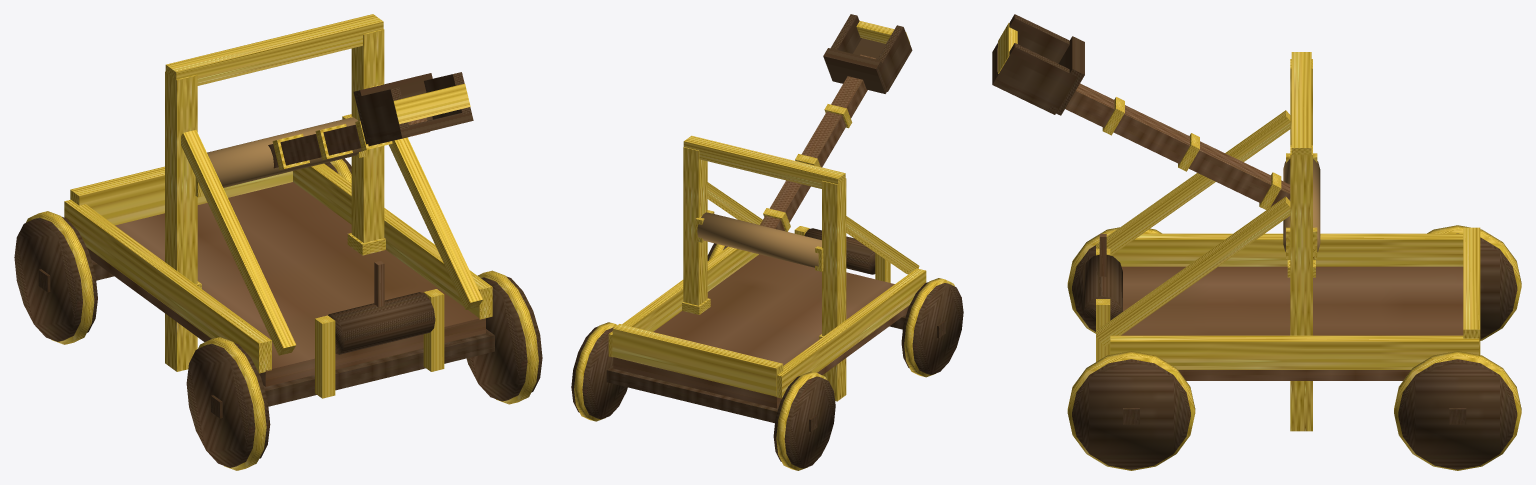
Rendered from ae_catapult_small_royal_lod1.glb.
3 views of the same model, side by side, from view 1: azimuth 30°, elevation 25°; view 2: azimuth 150°, elevation 25°; view 3: azimuth 270°, elevation 25° (orthographic). The views are drawn at different scales.
Parts seen in each view (by area): view 1: bed, sideL, post_L, wheel_RL_rim, wheel_FL_rim, cross_top, sideR, brace_-0.72, post_R, wheel_RR_rim, front_stop, winch_drum (+14 smaller); view 2: bed, front_stop, sideL, post_L, wheel_RL_rim, wheel_FL_rim, skein, post_R, arm_beam, cross_top, axle_front, sideR (+12 smaller); view 3: bed, sideR, wheel_FR_rim, wheel_RR_rim, sideL, arm_beam, post_R, brace_0.72, brace_-0.72, spoon_R, wheel_FL_rim, cross_top (+13 smaller).
Part boxes in pixels (<box>): bed: <box>87,182,485,386</box>; sideL: <box>64,199,271,373</box>; post_L: <box>165,71,197,371</box>; wheel_RL_rim: <box>186,343,270,467</box>; wheel_FL_rim: <box>14,217,97,341</box>; cross_top: <box>165,14,383,85</box>; sideR: <box>293,163,492,319</box>; brace_-0.72: <box>181,130,296,355</box>; post_R: <box>351,29,384,242</box>; wheel_RR_rim: <box>466,276,542,401</box>; front_stop: <box>70,166,292,225</box>; winch_drum: <box>328,292,435,354</box>; bed: <box>613,254,909,408</box>; front_stop: <box>612,324,783,396</box>; sideL: <box>776,268,926,398</box>; post_L: <box>822,178,846,401</box>; wheel_RL_rim: <box>901,282,963,374</box>; wheel_FL_rim: <box>773,376,835,468</box>; skein: <box>697,212,821,267</box>; post_R: <box>683,147,707,305</box>; arm_beam: <box>760,54,876,230</box>; cross_top: <box>683,135,845,188</box>; axle_front: <box>606,366,817,431</box>; sideR: <box>608,246,758,357</box>; bed: <box>1121,266,1463,380</box>; sideR: <box>1110,335,1478,369</box>; wheel_FR_rim: <box>1398,359,1517,469</box>; wheel_RR_rim: <box>1072,359,1190,469</box>; sideL: <box>1110,233,1463,266</box>; arm_beam: <box>1065,83,1290,206</box>; post_R: <box>1290,145,1312,431</box>; brace_0.72: <box>1096,196,1290,346</box>; brace_-0.72: <box>1096,110,1290,255</box>; spoon_R: <box>996,43,1076,108</box>; wheel_FL_rim: <box>1456,233,1517,339</box>; cross_top: <box>1291,52,1311,154</box>.
Bounding box in the file's own units: 2.3 × 2.92 × 3.73.
Materials: 3 (3 with a texture image).
